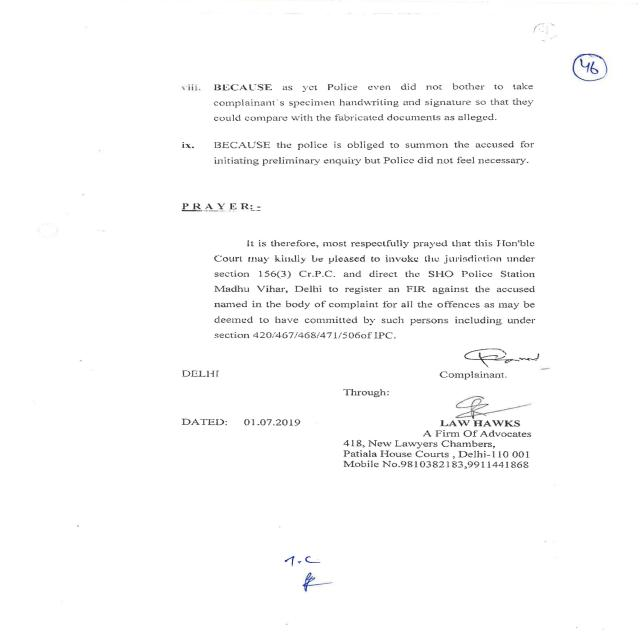page-number: (538, 2, 640, 123)
